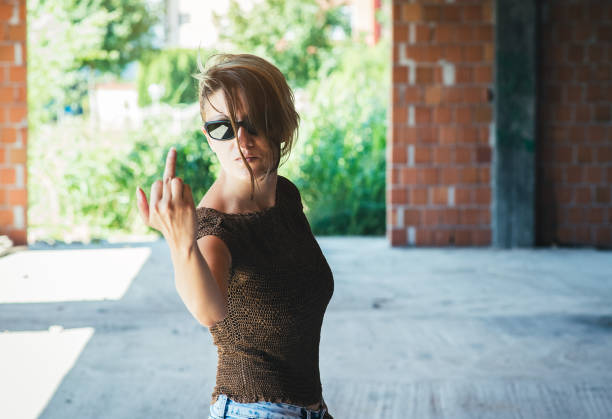insulting_gesture: (134, 146, 197, 245)
